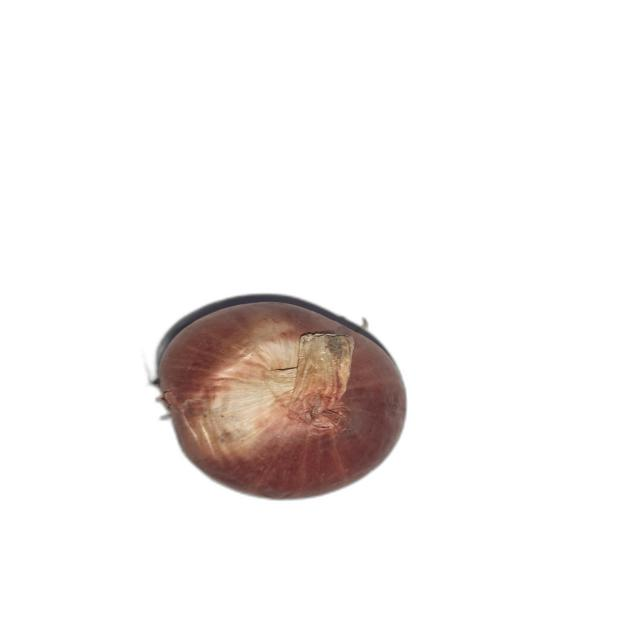onion: (151, 300, 408, 503)
